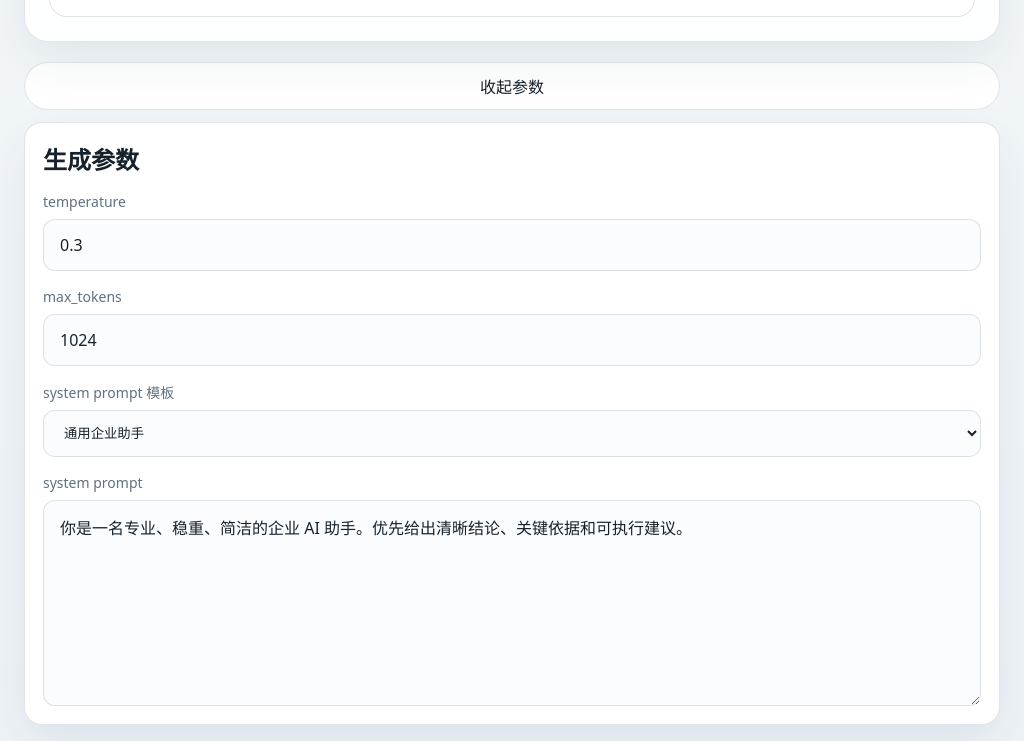
ChatShell › switches suggestion cards when the system prompt preset changes
(page scrolled)
Step 1. Select "电力巡检图像分析助手" in the dropdown labelled "system prompt 模板" → (512, 434), box [43,410,981,457]
(page scrolled)
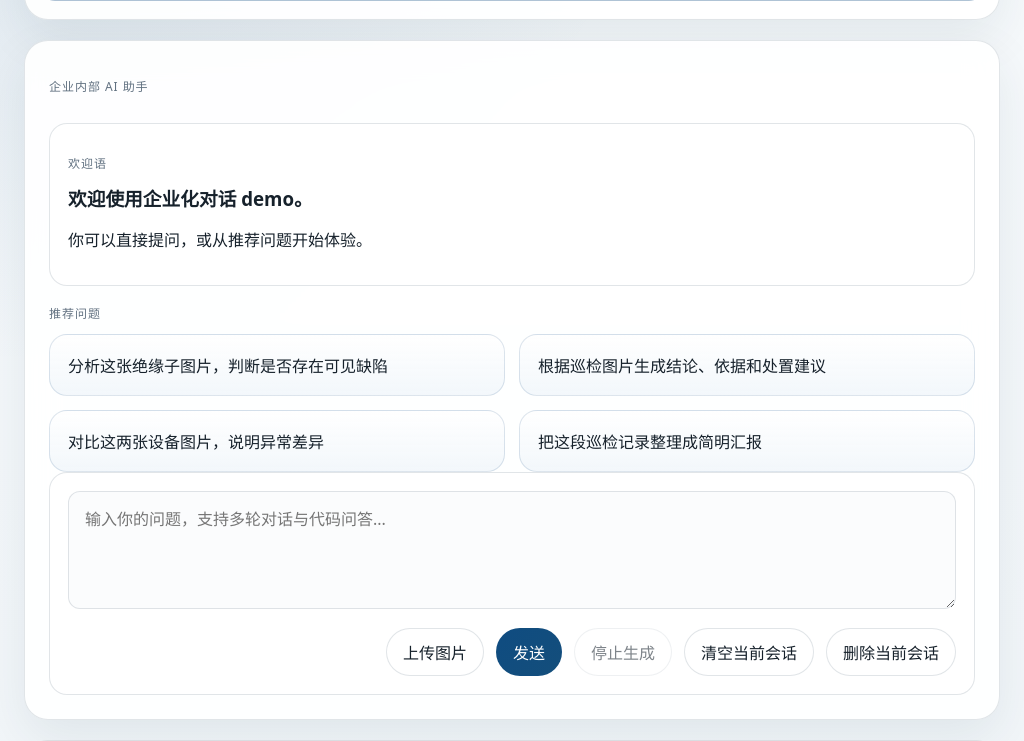
Result: the button "分析这张绝缘子图片，判断是否存在可见缺陷" is shown at [49,334,505,396]
